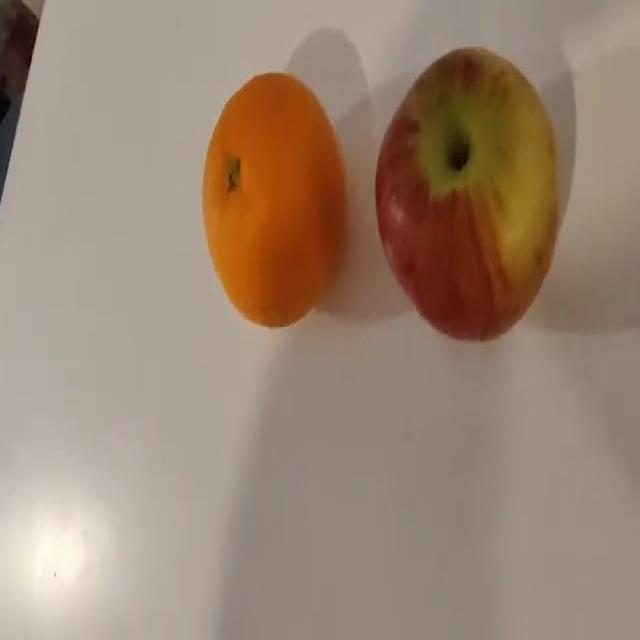Apple: (374, 45, 560, 341)
Orange: (201, 70, 348, 328)
